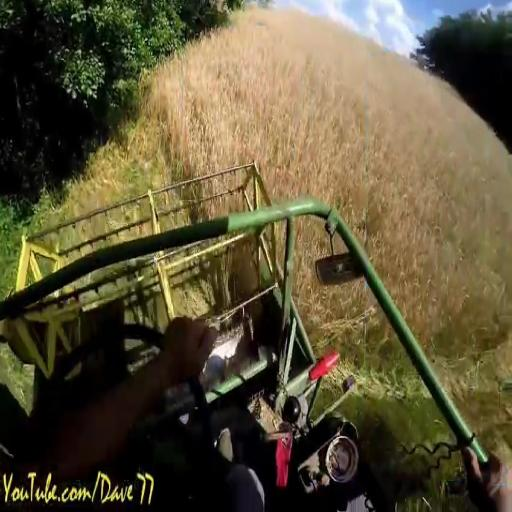bugday: (62, 10, 511, 375), (293, 220, 370, 337)
